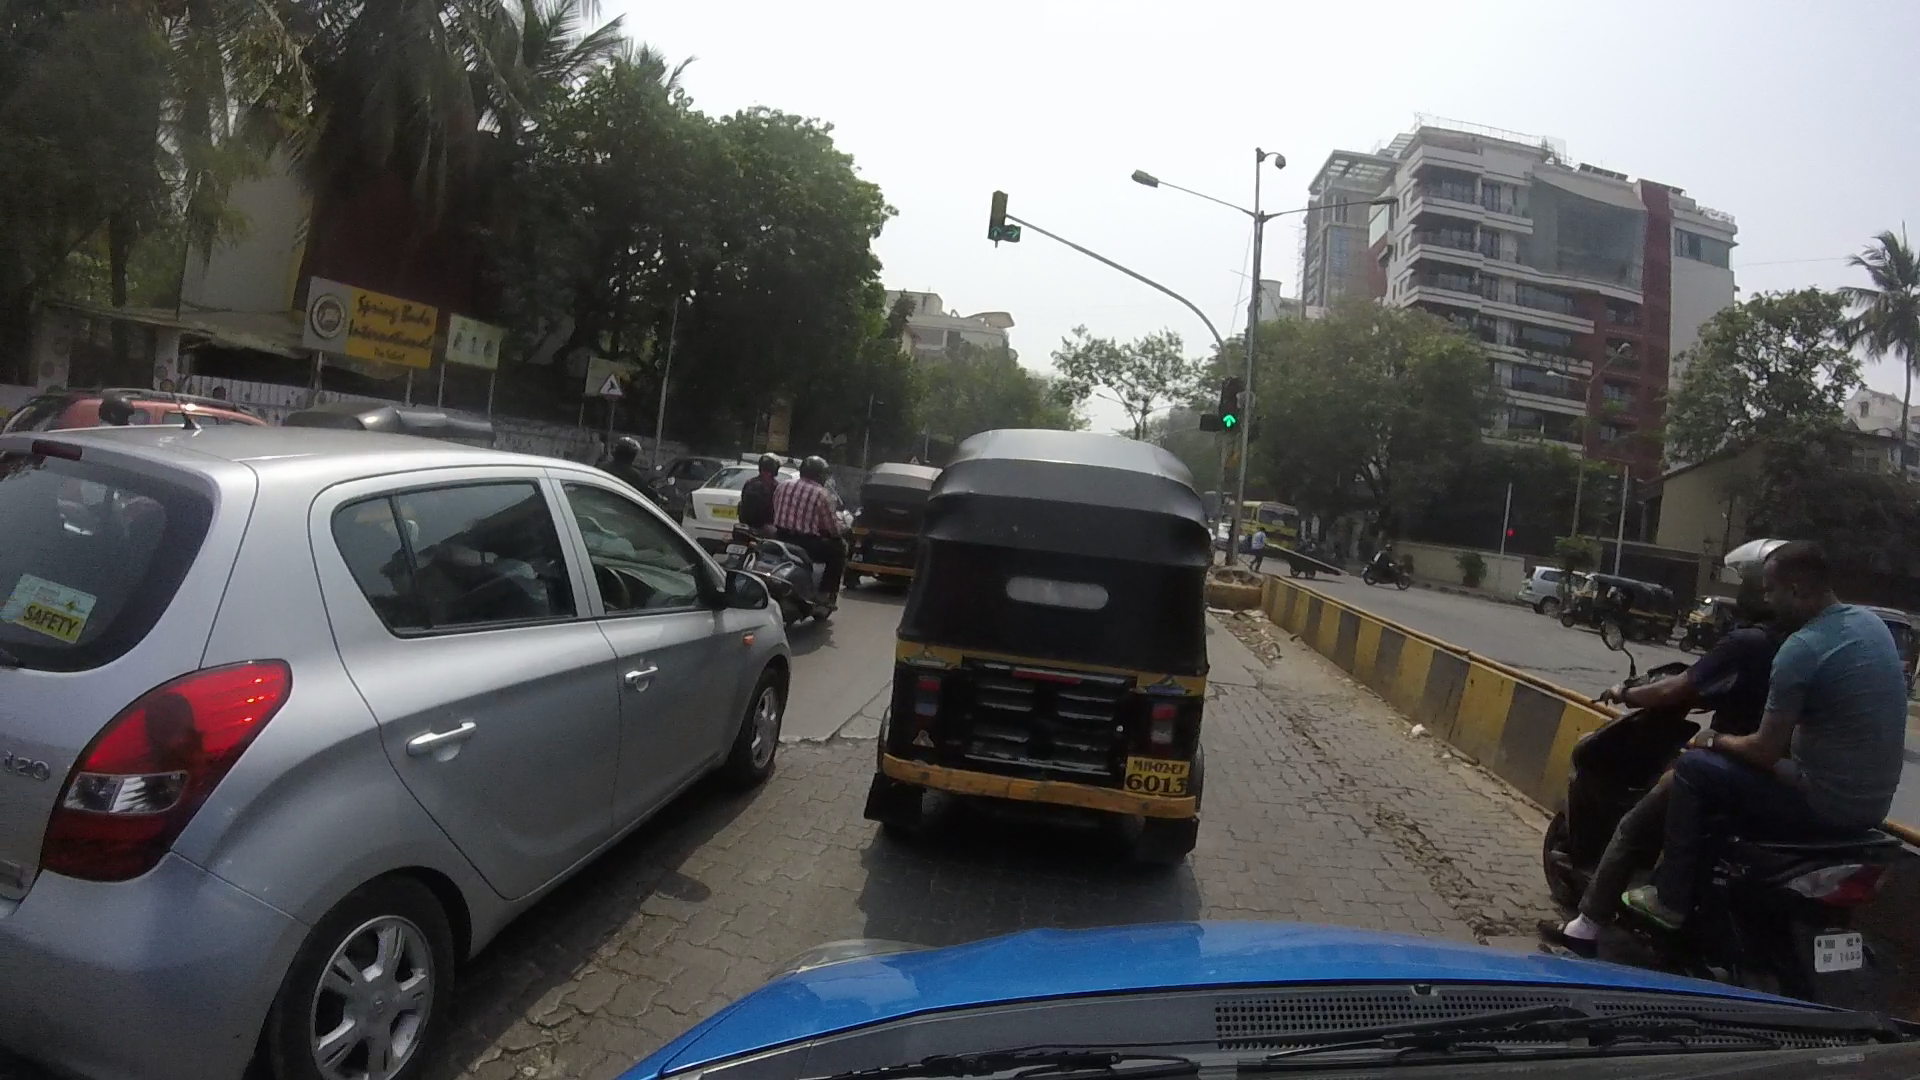bike/scooter: (1540, 545, 1920, 1018), (749, 460, 825, 633)
car: (11, 422, 769, 1077)
rickshaw: (876, 422, 1211, 848), (866, 463, 943, 595)
